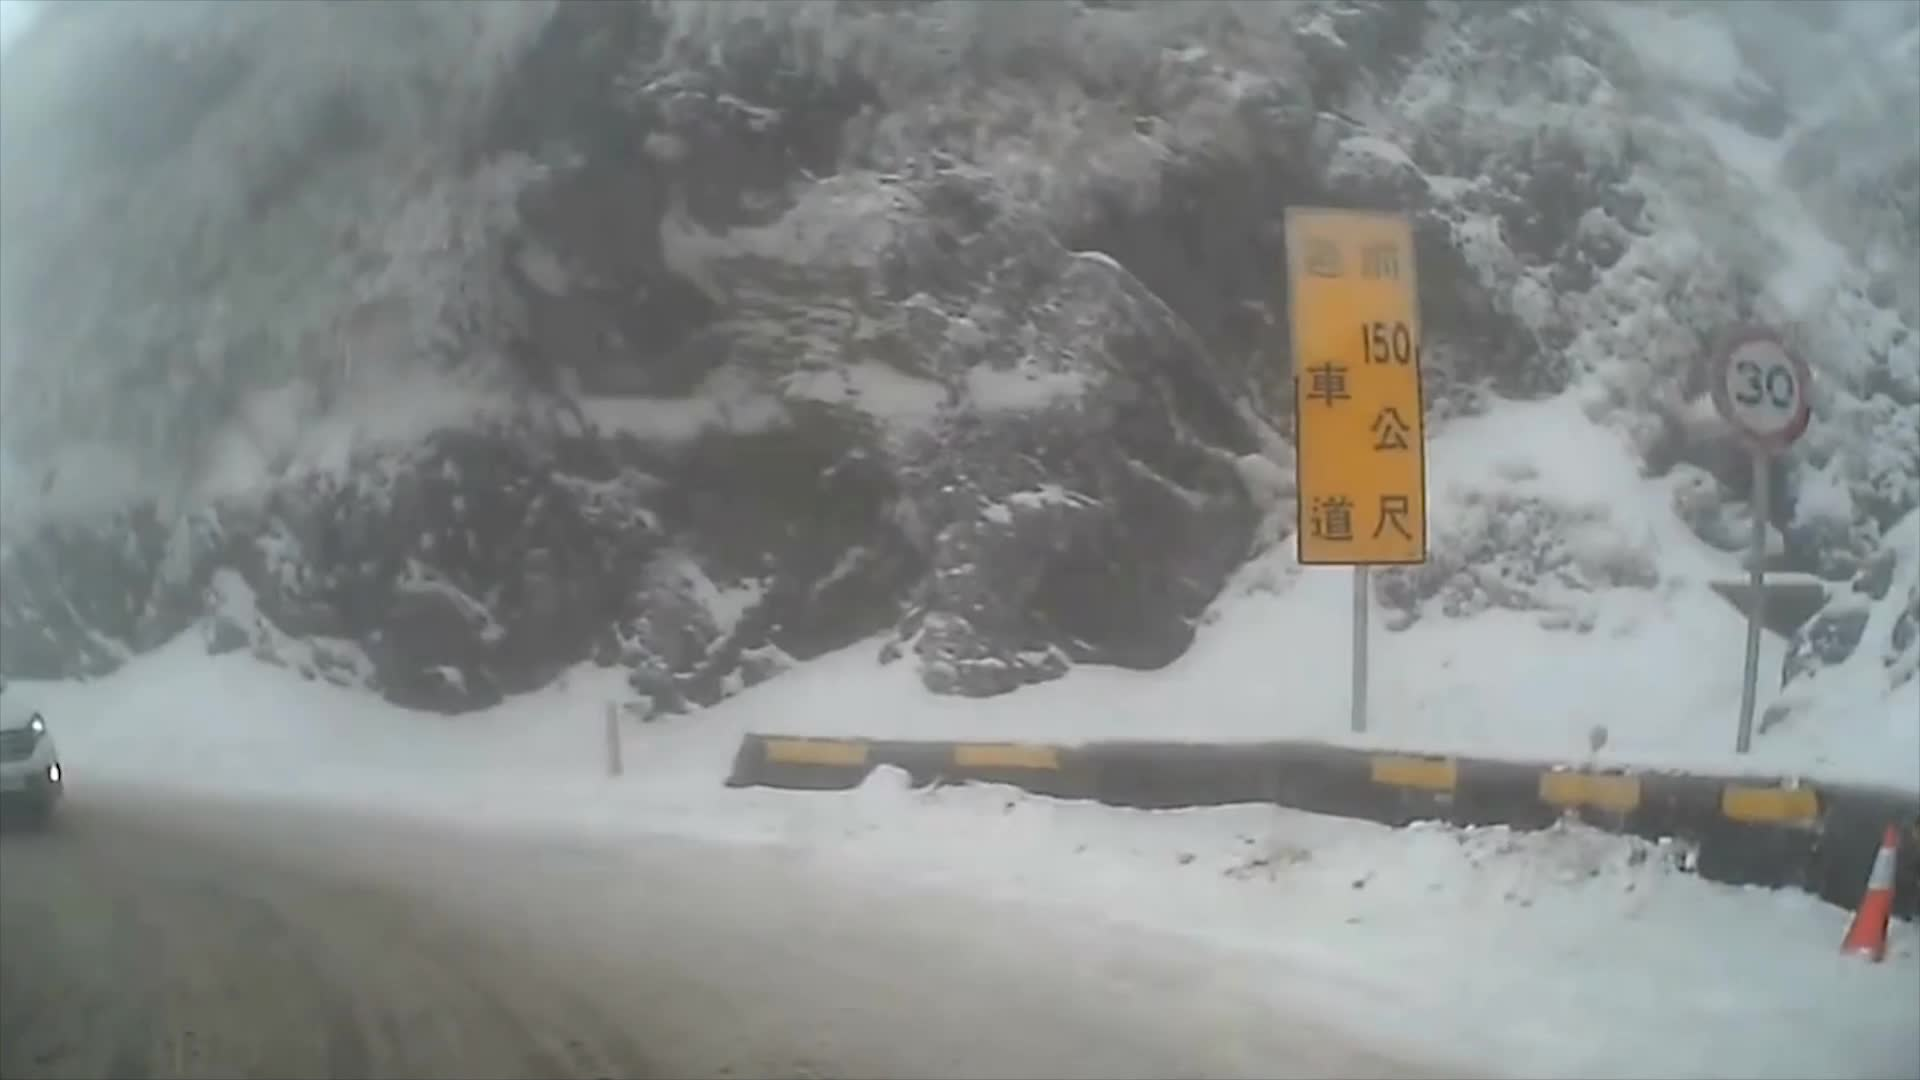vehicle: (0, 676, 65, 836)
